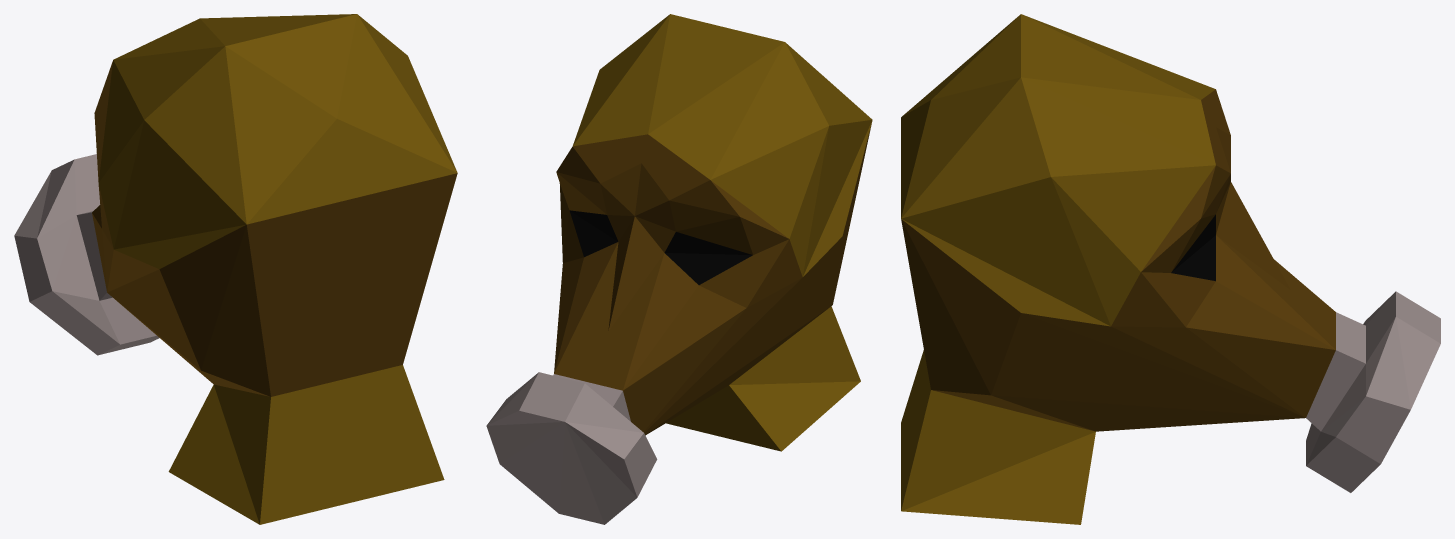
Rendered from npc_world_mourner_9_0.obj.
3 renders of one model, left to right at view 1: azimuth 30°, elevation 25°; view 2: azimuth 150°, elevation 25°; view 3: azimuth 270°, elevation 25°, orthographic. The views are drawn at different scales.
Bounding box in the file's own units: 0.1562 × 0.25 × 0.2812.
